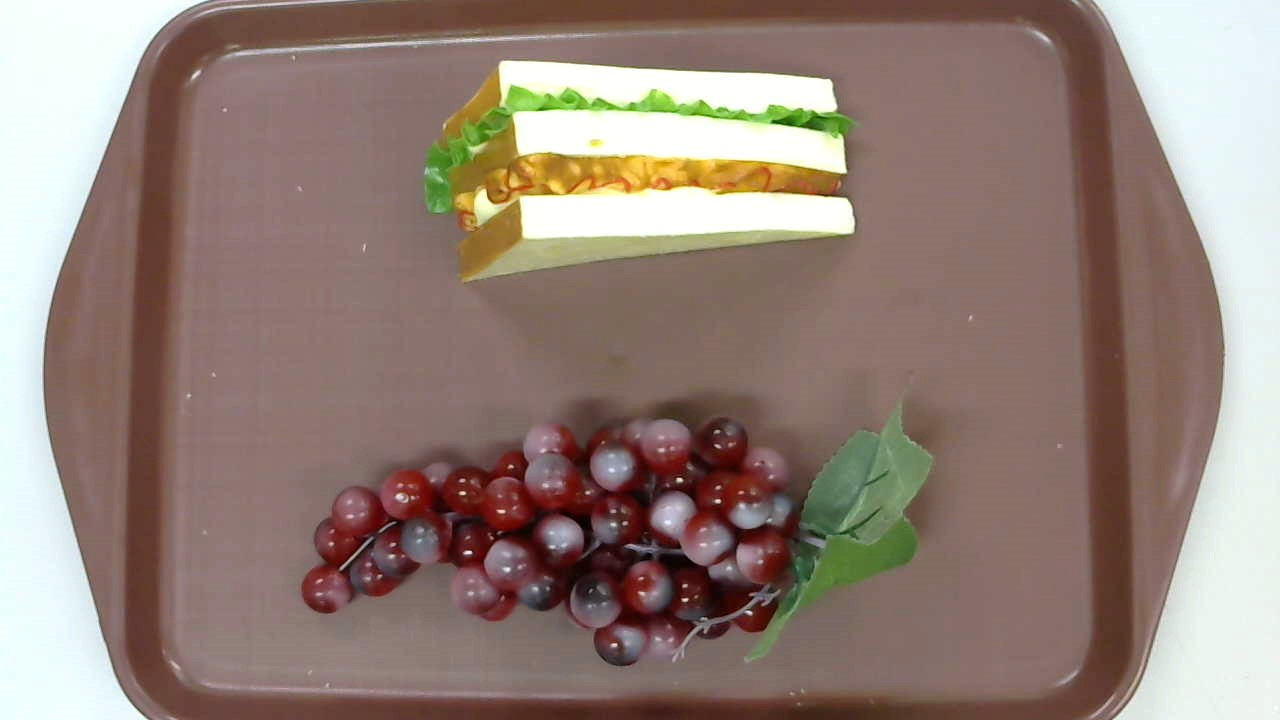grape: (301, 398, 935, 666)
sandwich: (423, 59, 861, 284)
